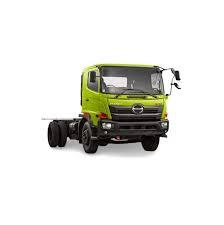truck: (74, 53, 185, 152)
